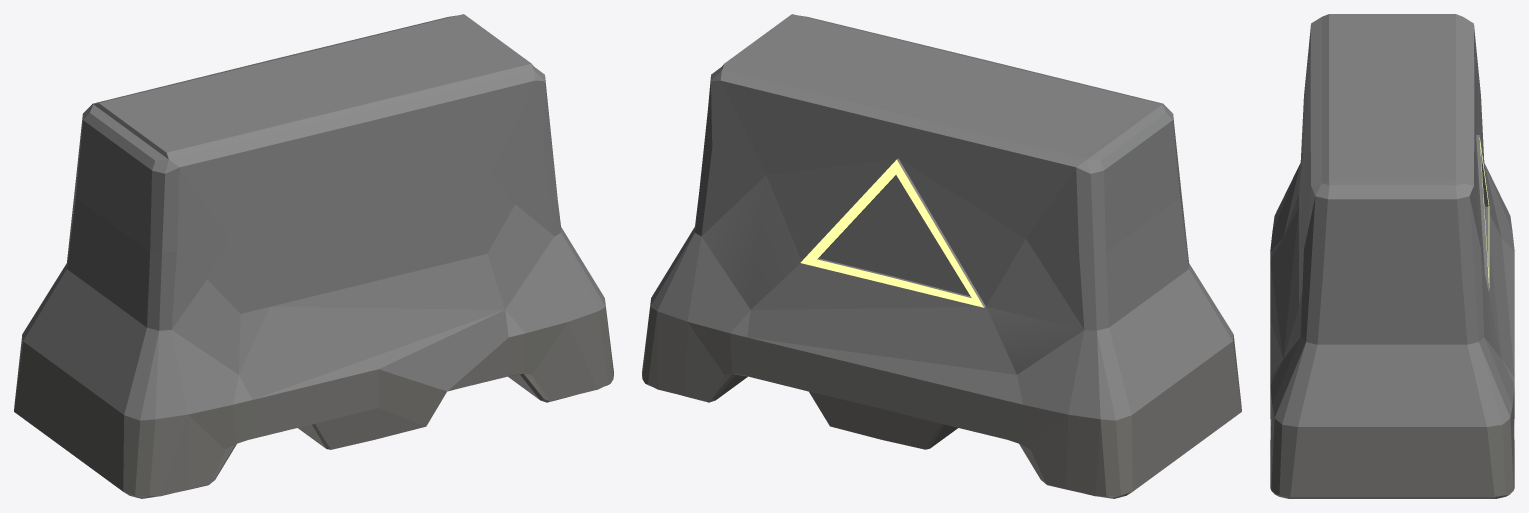
File: Obstacle.fbx
3 views of the same model, side by side, from view 1: azimuth 30°, elevation 25°; view 2: azimuth 150°, elevation 25°; view 3: azimuth 270°, elevation 25° (orthographic). The views are drawn at different scales.
Visible parts, largest first — view 1: Obstacle; view 2: Obstacle; view 3: Obstacle.
Part boxes in pixels (box(x1,y1,x2,y2)): Obstacle: box(14, 14, 613, 498); Obstacle: box(642, 14, 1241, 498); Obstacle: box(1270, 14, 1514, 498).
Bounding box in the file's own units: 190 × 116 × 87.68.
1 material, 1 textured.
